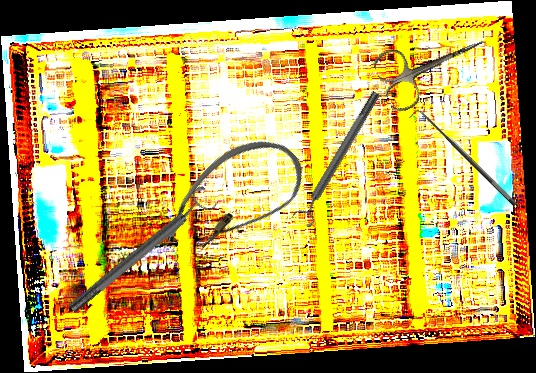Cannula: (150, 118, 317, 283)
Fixation Ring: (61, 183, 220, 320), (290, 87, 388, 229)
Hook Surgical: (409, 105, 518, 214)
Iris Scissors: (370, 13, 497, 116)
